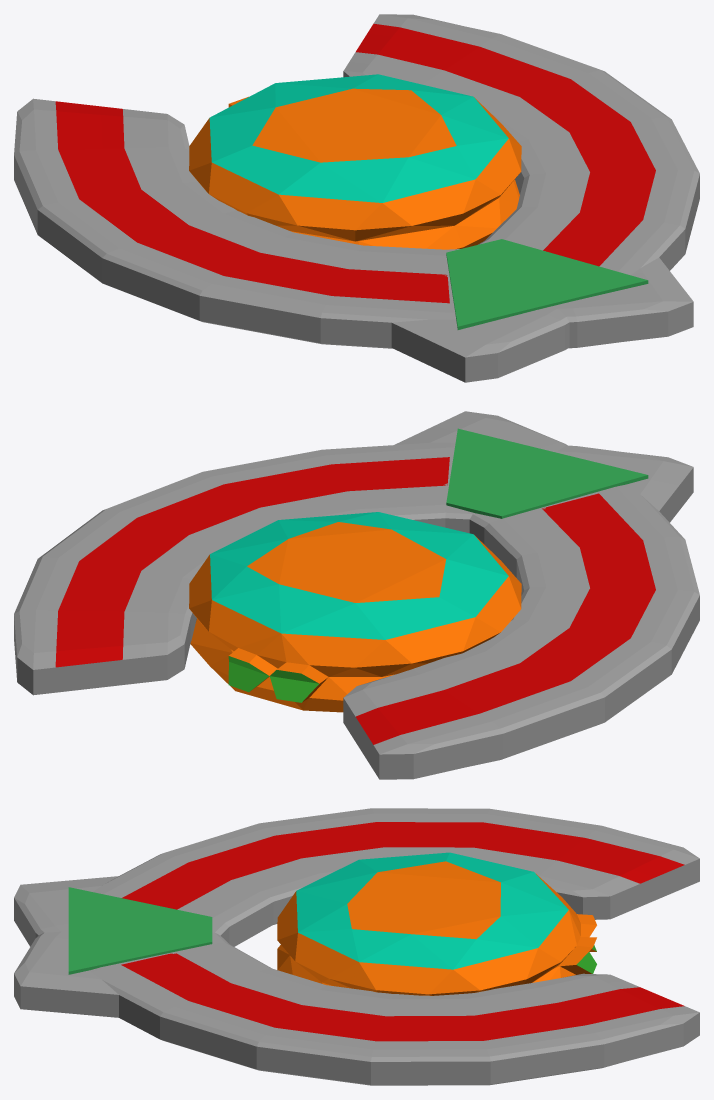
File: Enemy3LV4.fbx
The picture shows the model from 3 angles, top to bottom: view 1: azimuth 30°, elevation 25°; view 2: azimuth 150°, elevation 25°; view 3: azimuth 270°, elevation 25°; orthographic projection. The views are drawn at different scales.
Parts seen in each view (by area): view 1: Cube, Cone, Plane; view 2: Cube, Cone, Plane; view 3: Cube, Cone, Plane.
Part boxes in pixels (x1,y1,x2,y2): Cube: [14, 14, 699, 382]; Cone: [189, 74, 521, 249]; Plane: [446, 239, 648, 329]; Cube: [14, 411, 699, 779]; Cone: [189, 512, 521, 712]; Plane: [446, 428, 648, 518]; Cube: [14, 808, 699, 1085]; Cone: [277, 852, 596, 995]; Plane: [68, 887, 212, 974].
Bounding box in the file's own units: 354 × 58.35 × 406.
